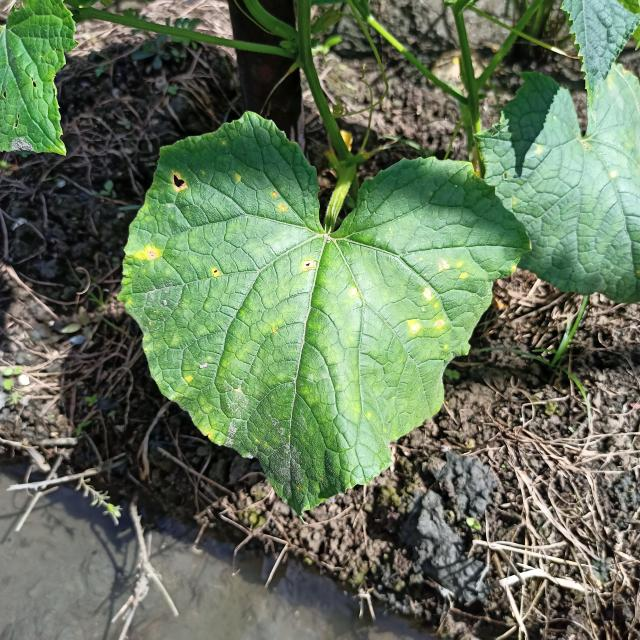disease_cucumber: (406, 254, 471, 335), (170, 170, 190, 196), (133, 244, 161, 262), (270, 189, 288, 214), (298, 259, 315, 274), (348, 285, 361, 298), (210, 268, 222, 278)
